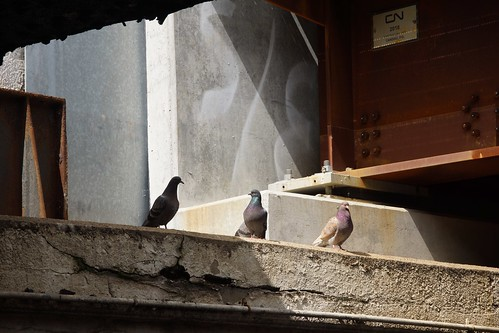animal: (136, 173, 193, 237), (310, 195, 359, 256), (235, 189, 279, 244)
